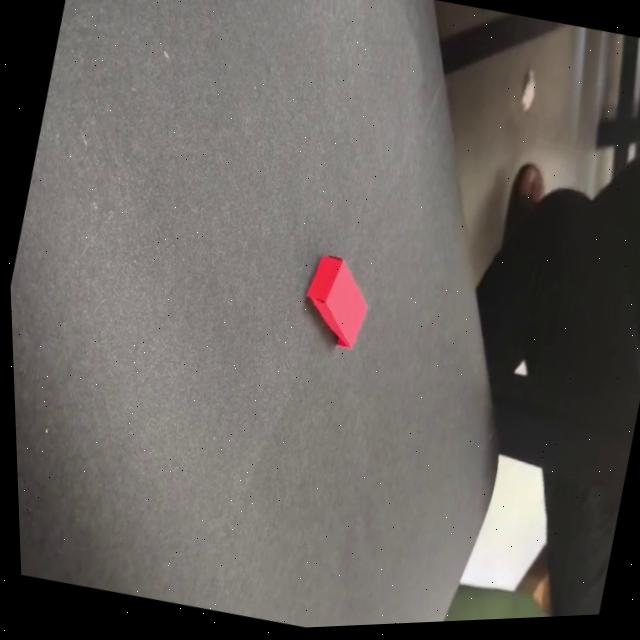red block: (293, 246, 381, 352)
